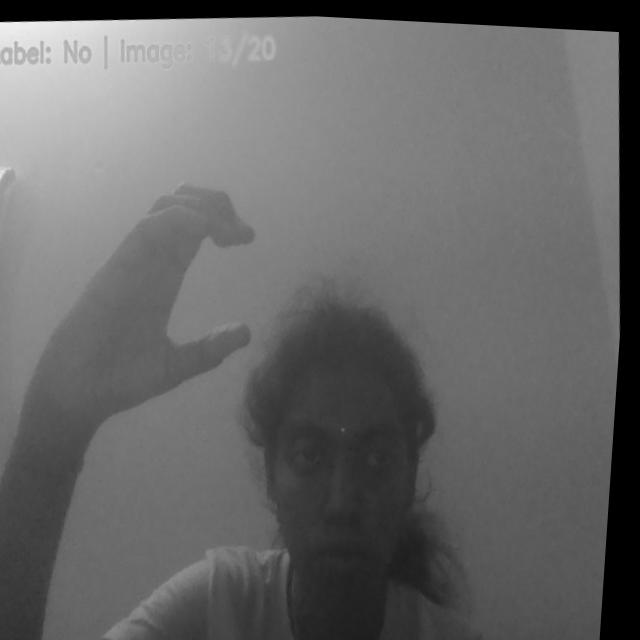No: (1, 155, 291, 470)
